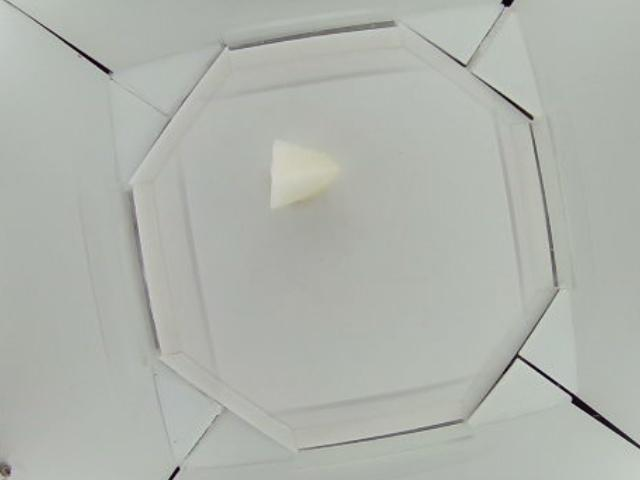Mooli: (267, 137, 342, 210)
